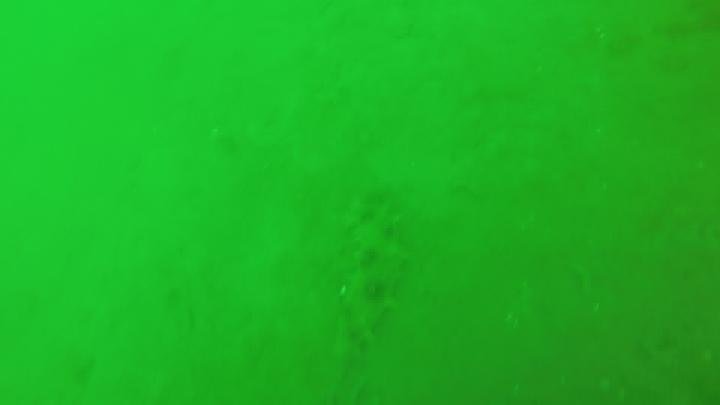holothurian: (326, 187, 410, 375)
